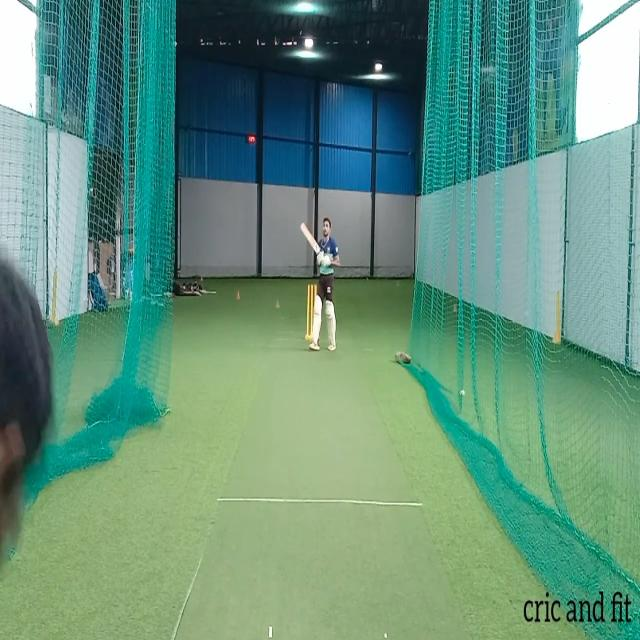batsman: (300, 215, 341, 352)
